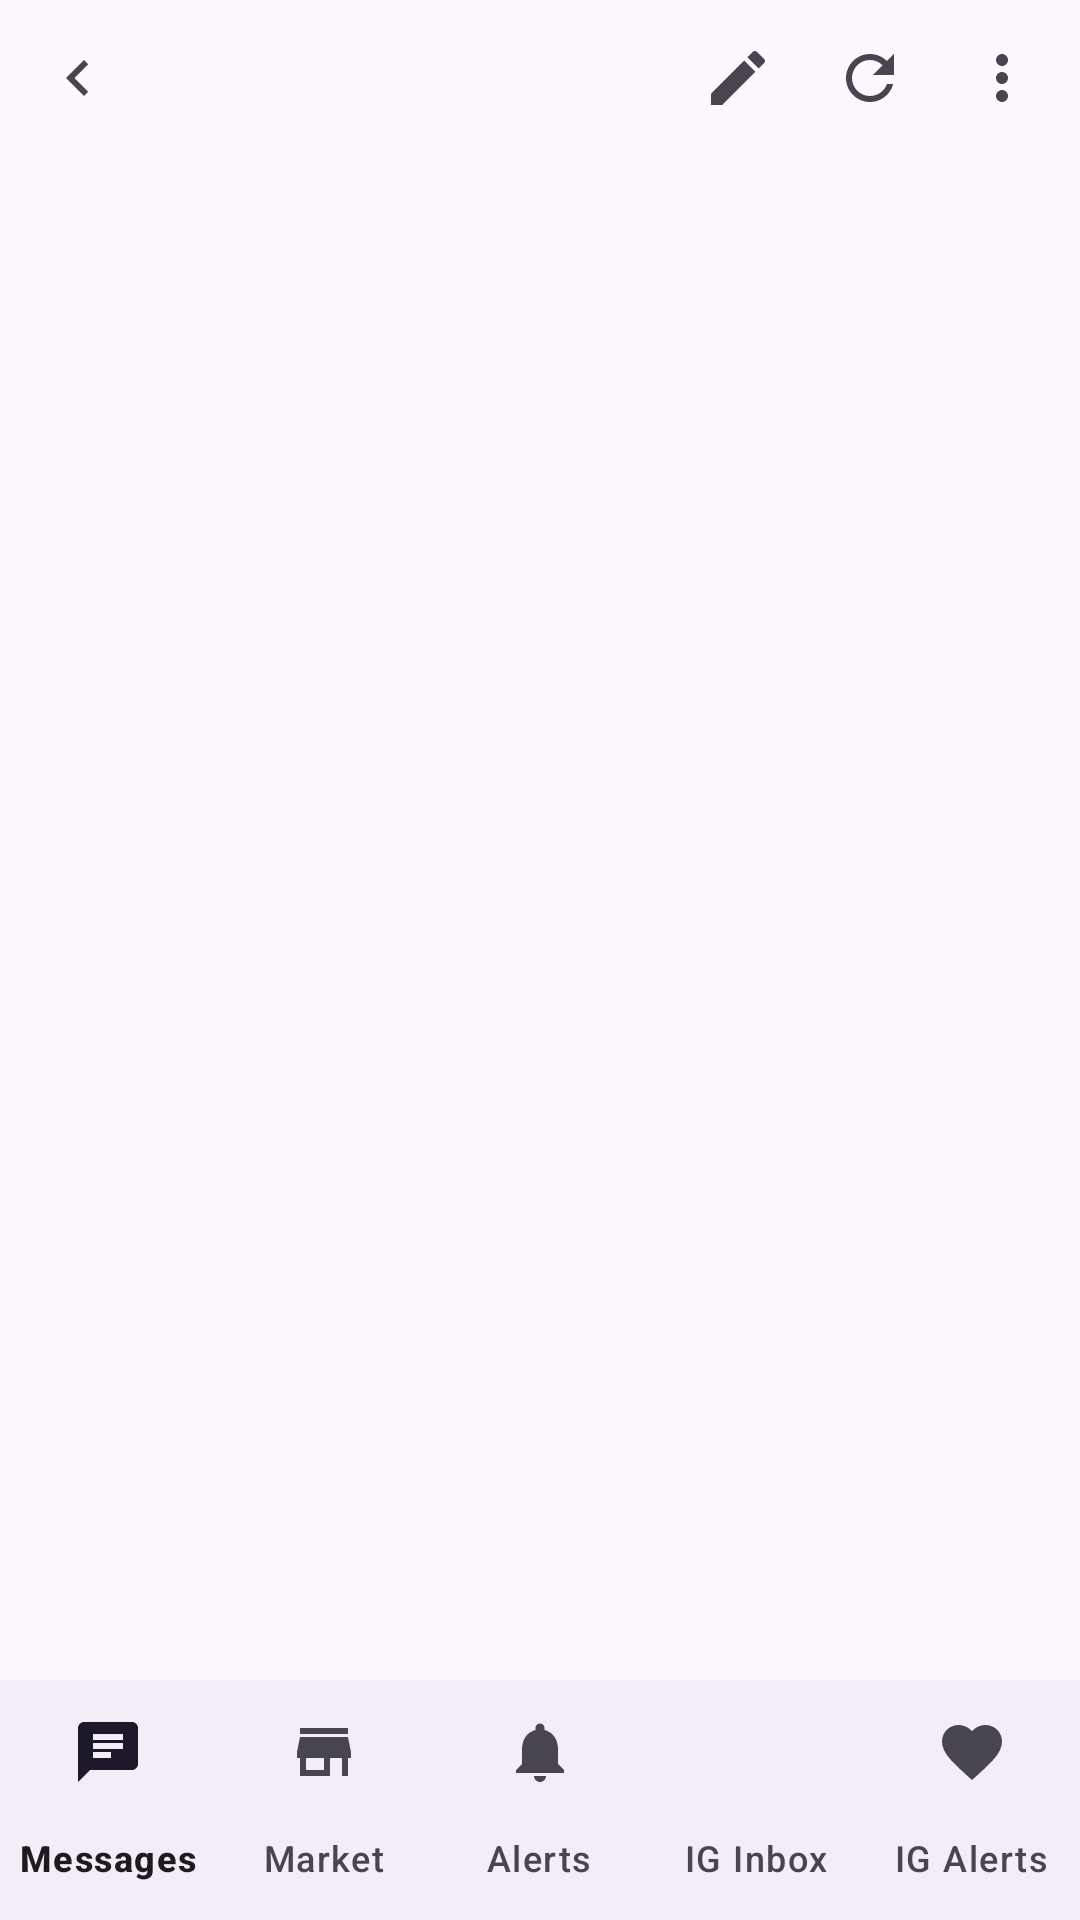

Icon click points for this 1080 × 1920 phone screenshot, format (x=x, y=y):
Back: (x=77, y=78)
Compose: (x=738, y=78)
More: (x=1002, y=78)
Reload: (x=870, y=78)
